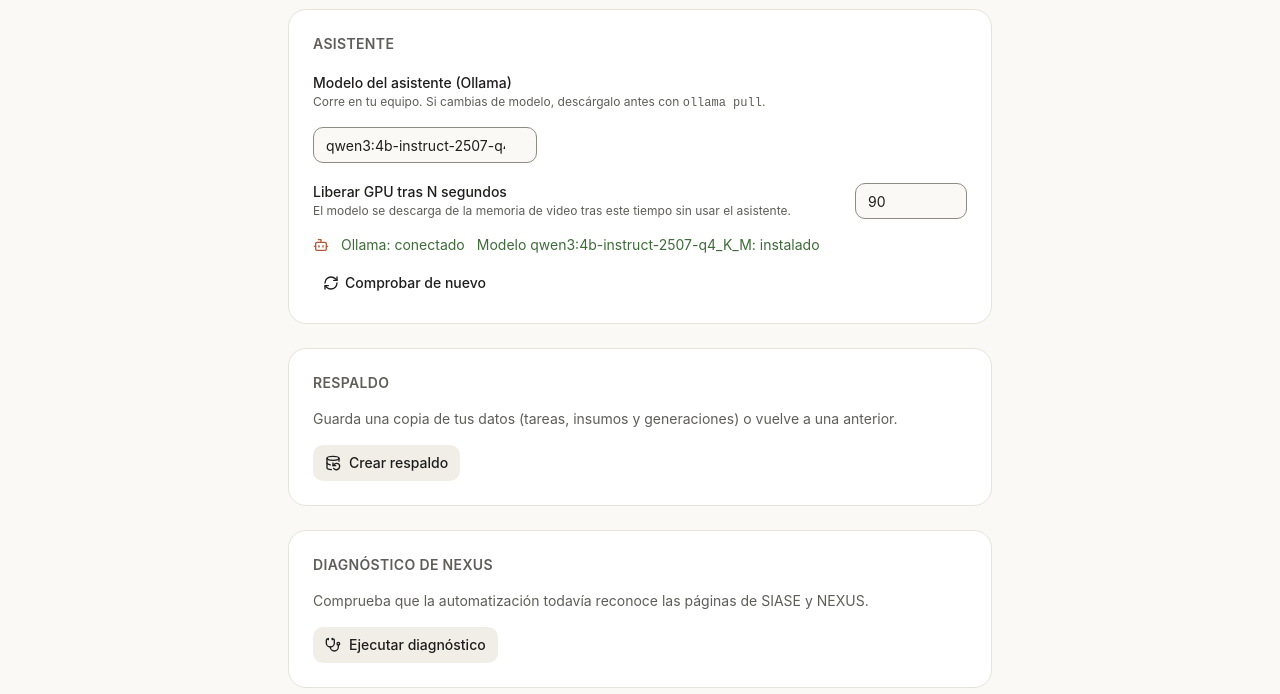
Test: configuración avanzada › crea un respaldo y lo restaura tras confirmar
The image size is (1280, 694).
(page scrolled)
Click the button "Crear respaldo" at (387, 463), box [313,445,460,481]
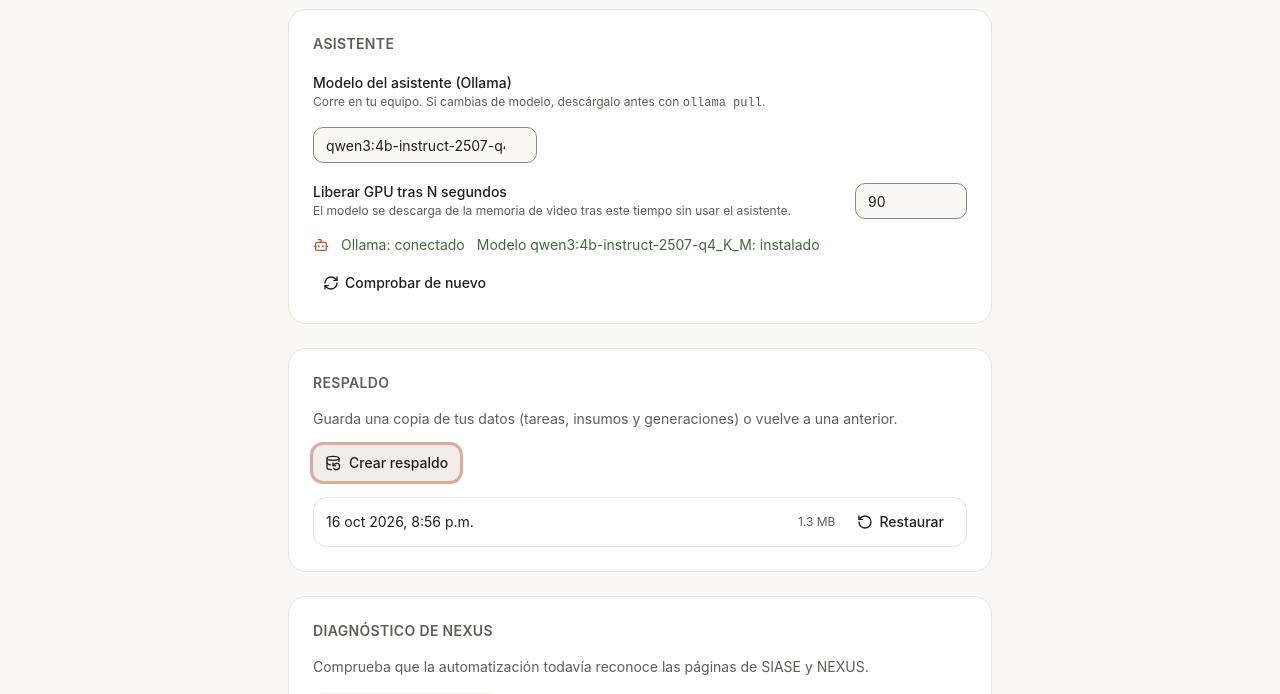
Expected: the list named "Respaldos" is shown, [313,497,967,547]
Click the button "Restaurar" at (901, 522), box [847,506,954,538]
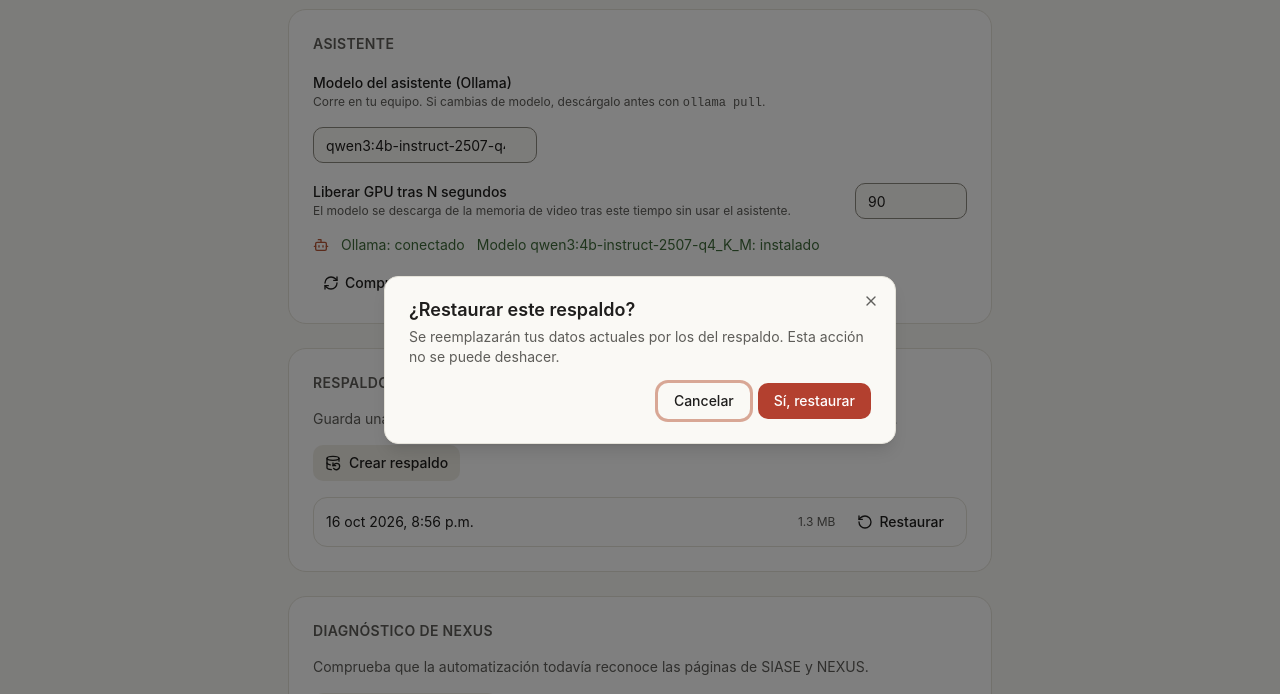
Click the button "Sí, restaurar" at (814, 401), box [758,383,871,419]
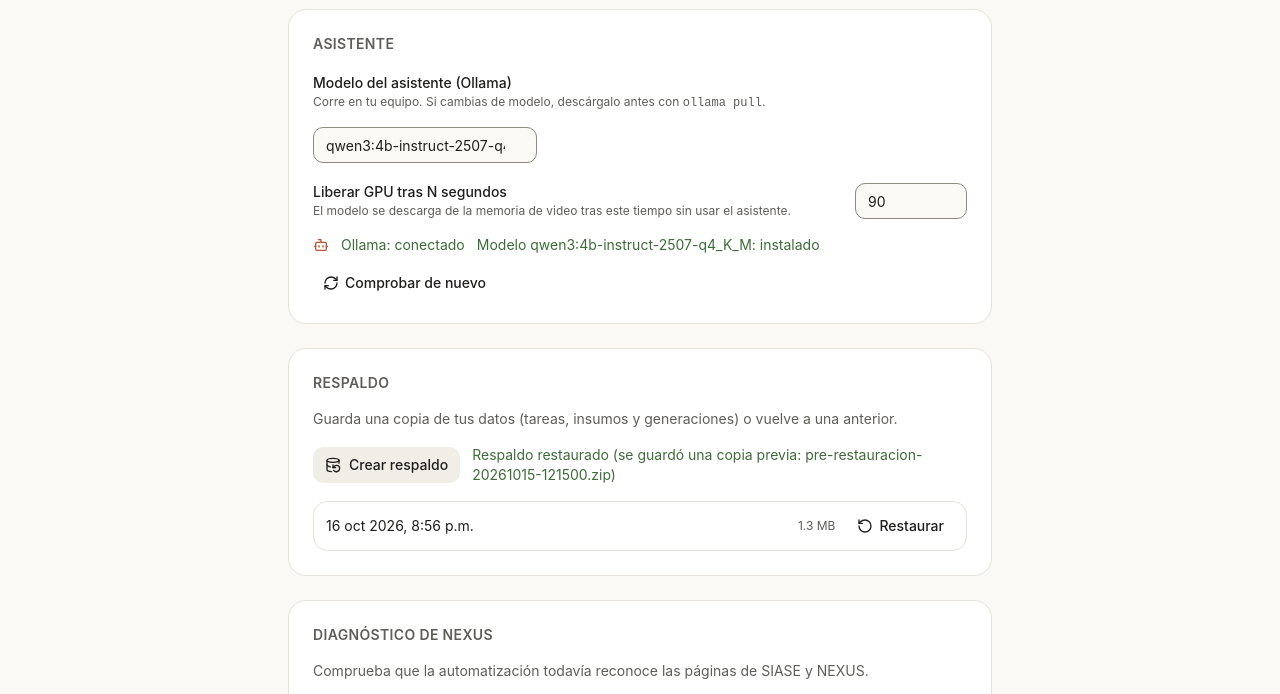
Expected: the text "Respaldo restaurado" is shown, [472,446,805,463]
